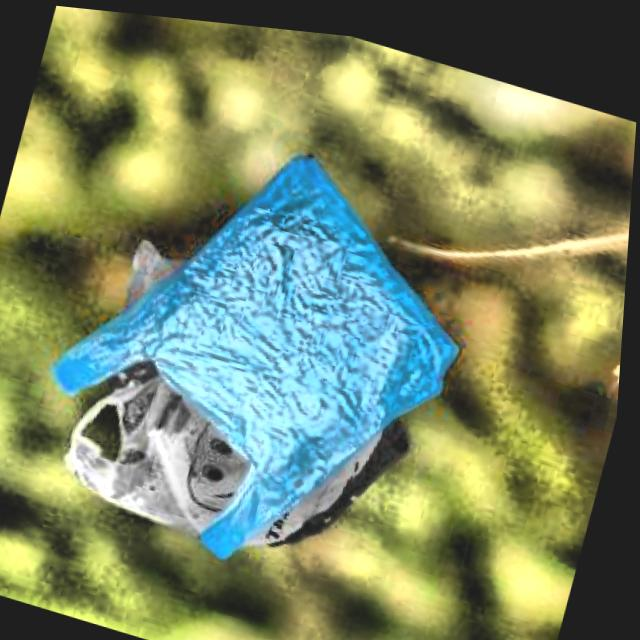Plastic: (6, 76, 507, 632)
